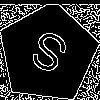S: (23, 28, 72, 84)
